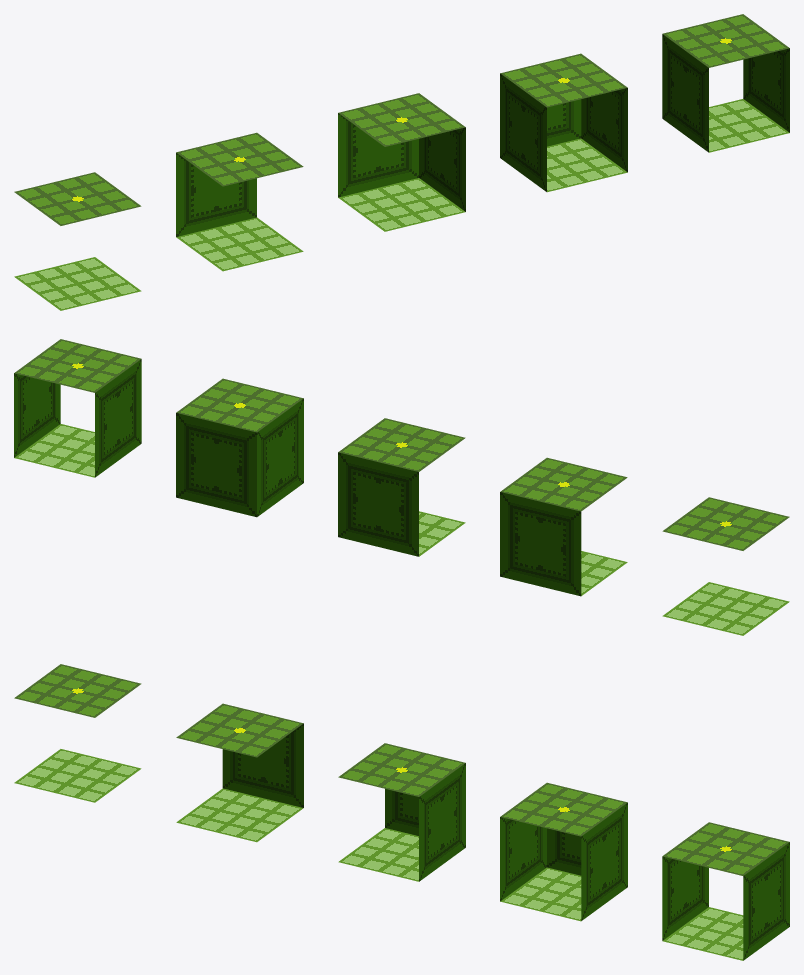
Rendered from Level1Tiles.glb.
3 views of the same model, one above another, from view 1: azimuth 30°, elevation 25°; view 2: azimuth 150°, elevation 25°; view 3: azimuth 330°, elevation 25° (orthographic).
Visible parts, largest first — view 1: Endpiece.col, Cornerpiece.col, Tunnelpiece.col, Edgepiece.col, Floorpiece.col; view 2: Endpiece.col, Tunnelpiece.col, Edgepiece.col, Cornerpiece.col, Floorpiece.col; view 3: Endpiece.col, Tunnelpiece.col, Edgepiece.col, Cornerpiece.col, Floorpiece.col.
Part boxes in pixels (x1,y1,x2,y2): Endpiece.col: (500,53,627,192); Cornerpiece.col: (338,93,465,231); Tunnelpiece.col: (662,14,789,152); Edgepiece.col: (176,132,303,271); Floorpiece.col: (14,172,141,310); Endpiece.col: (176,378,303,517); Tunnelpiece.col: (14,339,141,477); Edgepiece.col: (500,457,627,596); Cornerpiece.col: (338,418,465,556); Floorpiece.col: (662,497,789,635); Endpiece.col: (500,782,627,921); Tunnelpiece.col: (662,822,789,960); Edgepiece.col: (176,703,303,842); Cornerpiece.col: (338,743,465,881); Floorpiece.col: (14,664,141,802).
Size of the model in its own units: 18 by 2 by 2.
5 materials, 5 textured.
